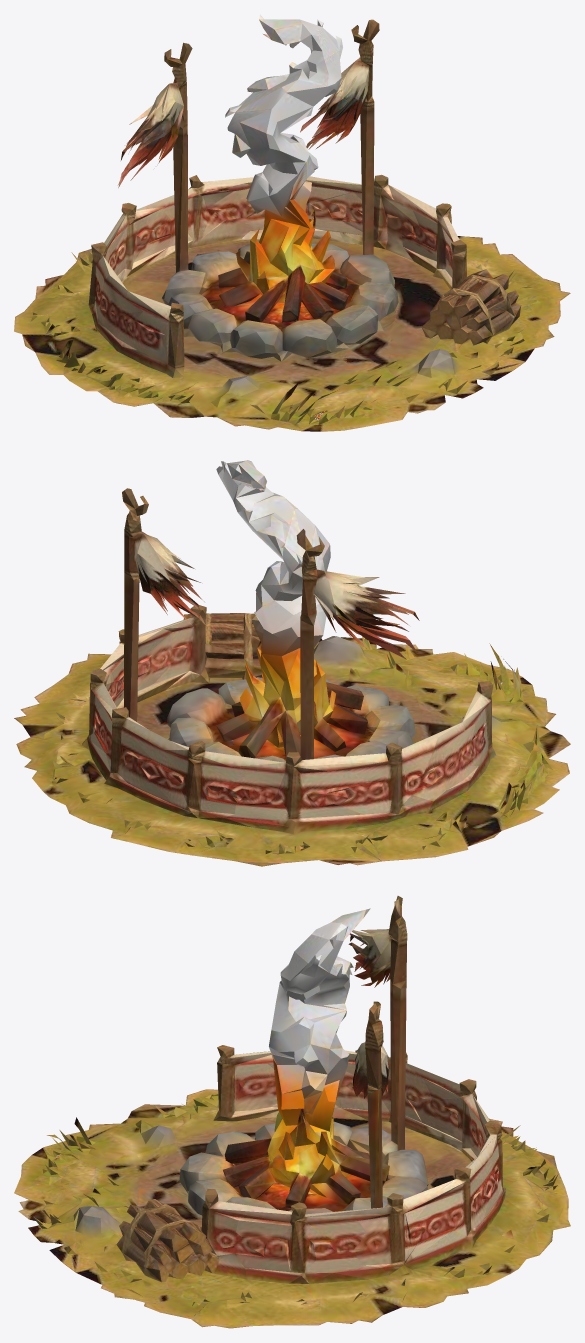
Rendered from m_ocak.glb.
3 views of the same model, one above another, from view 1: azimuth 30°, elevation 25°; view 2: azimuth 150°, elevation 25°; view 3: azimuth 270°, elevation 25° (orthographic). The views are drawn at different scales.
Size of the model in its own units: 1.9 by 1.06 by 1.79.
Materials: 1 (1 with a texture image).
